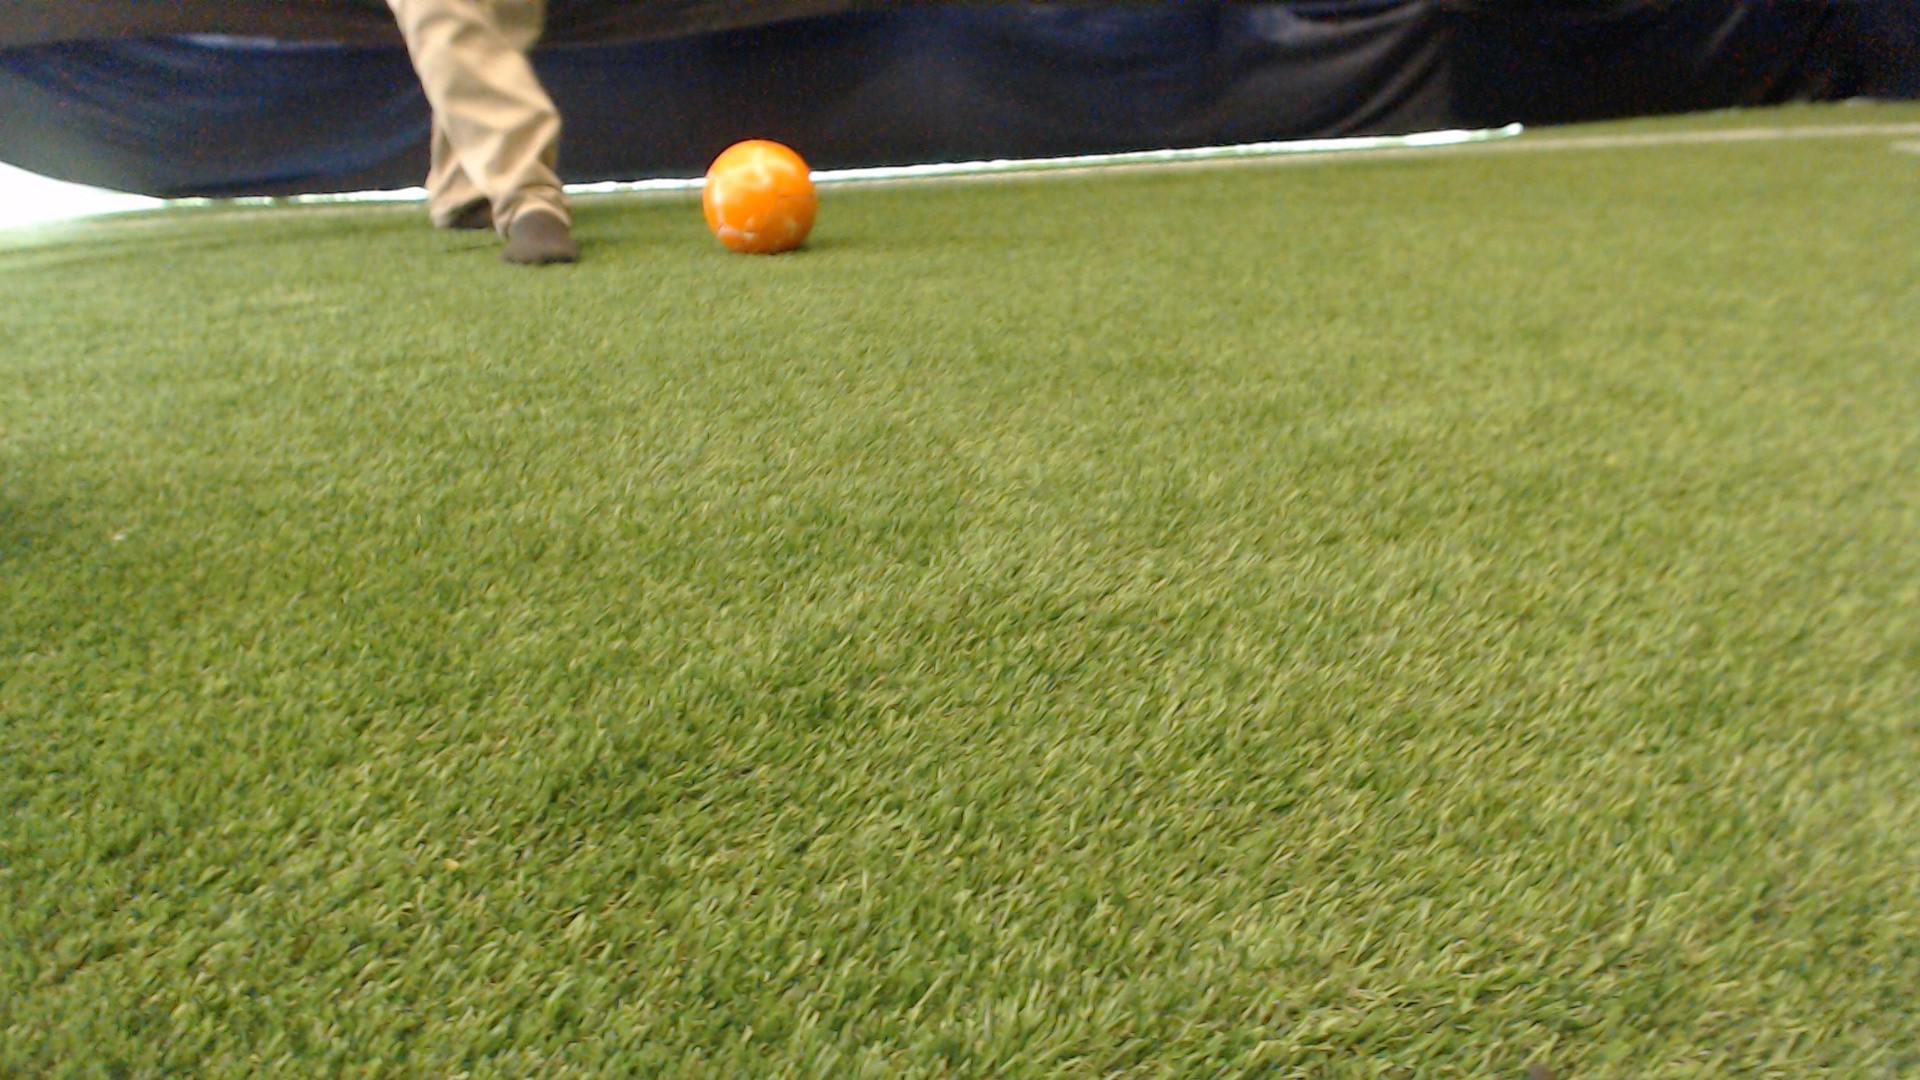bola: (695, 123, 836, 277)
